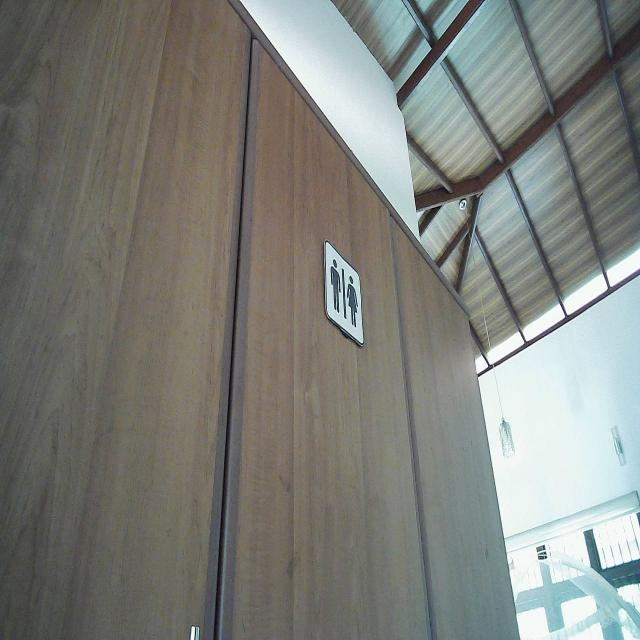restroom: (322, 238, 365, 352)
